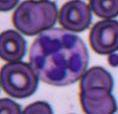N: (30, 31, 88, 86)
